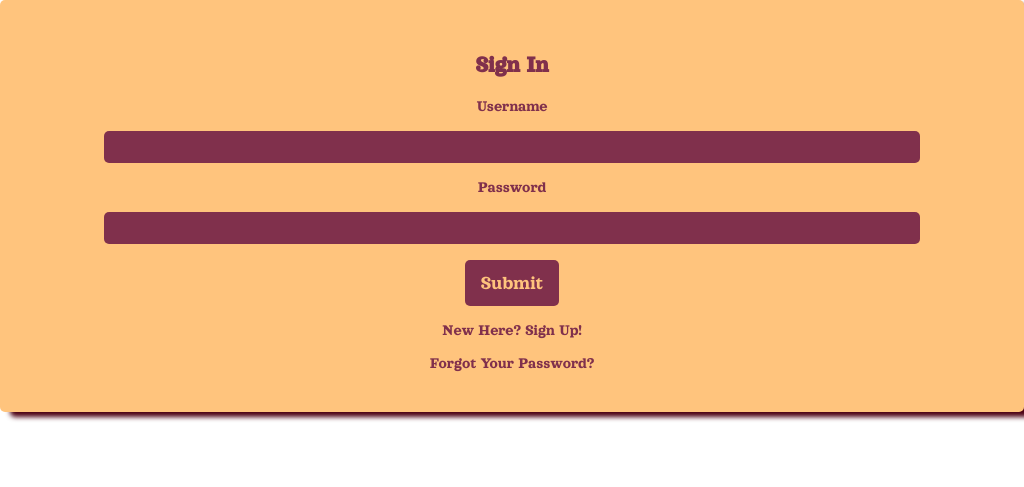
Scenario: <SignIn /> › sends data correctly on submit
In the field labelled "Username": (512, 147) [104,131,920,163], type "coolguy"
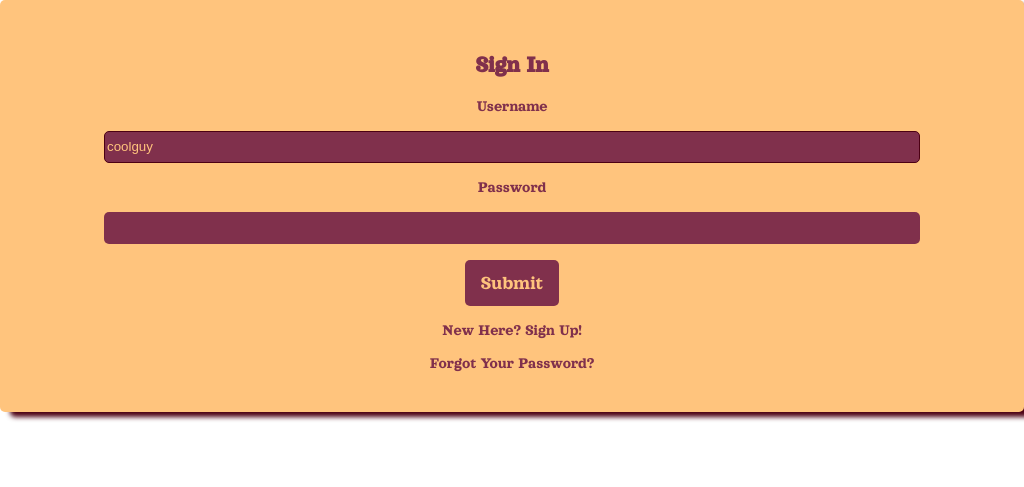
In the password field labelled "Password": (512, 228) [104,212,920,244], type "supersecretpassword"
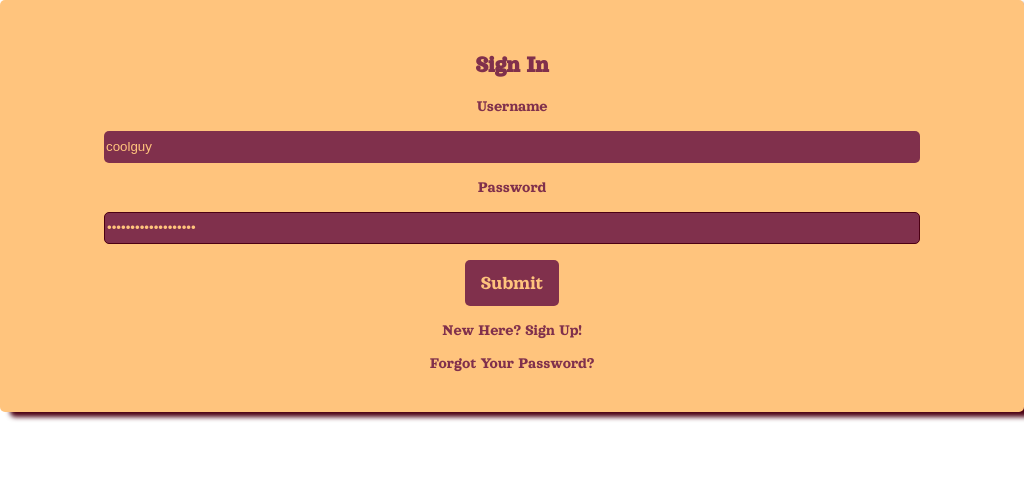
Click the button "Submit": (512, 283) [465,260,559,306]
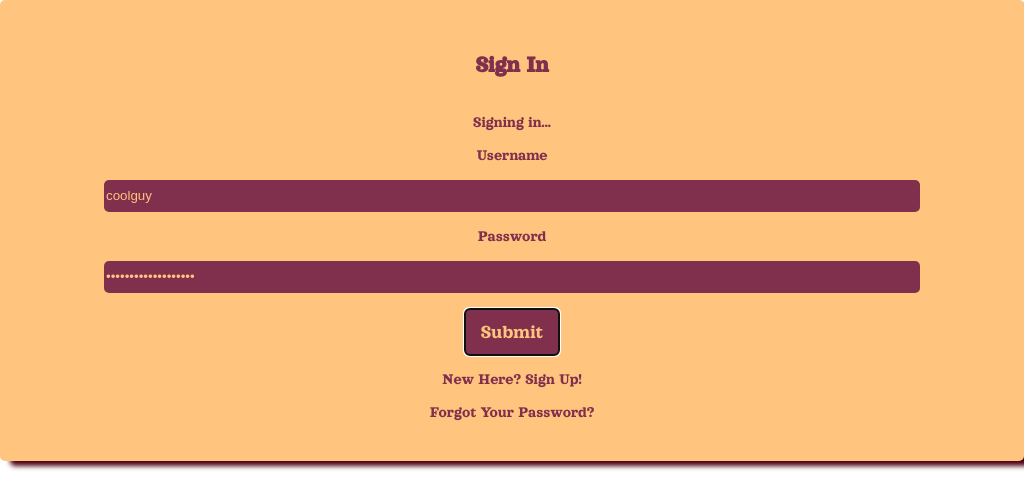
Result: the text "Signing in..." is shown at [473,114,551,131]
